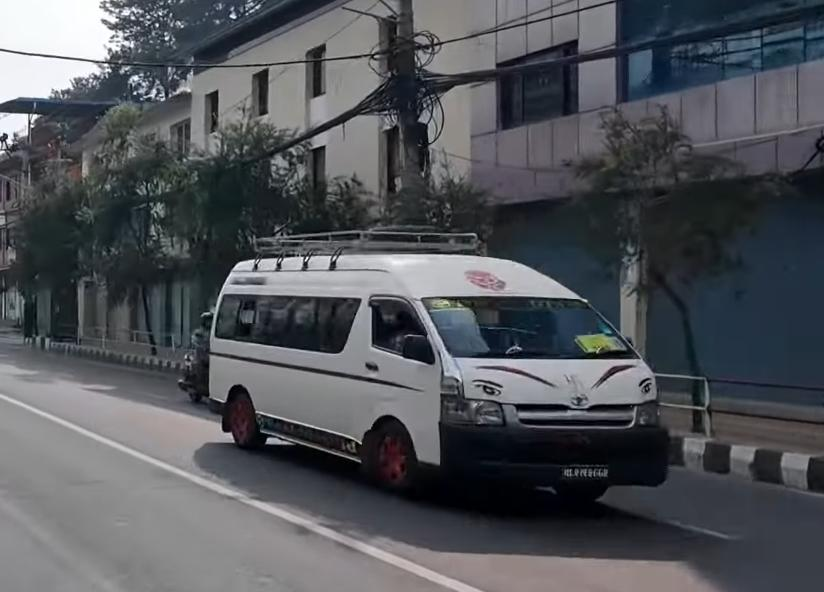micro_bus: (196, 225, 681, 517)
